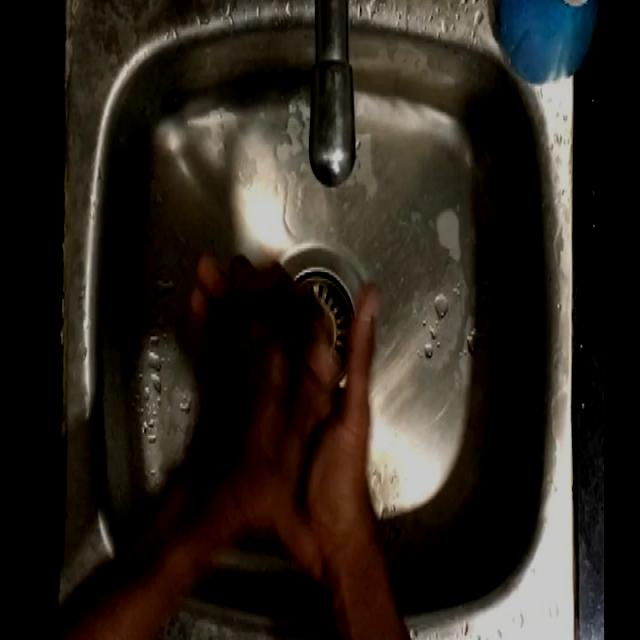step_5: (174, 244, 392, 560)
